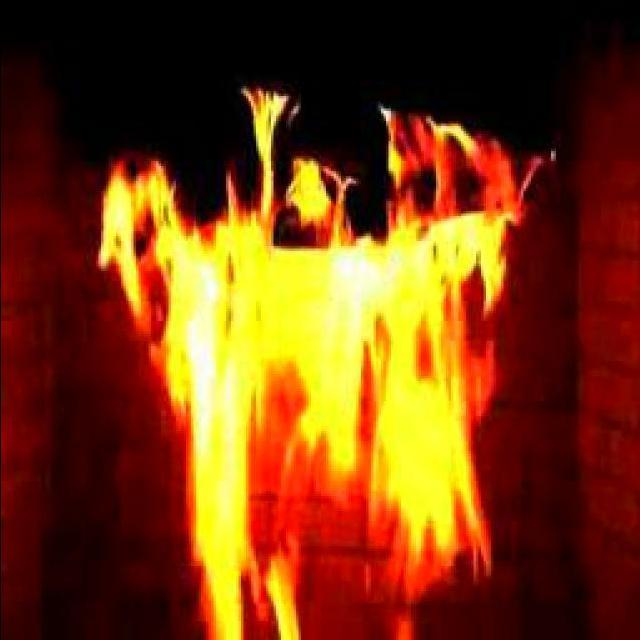Fire: (106, 159, 498, 556)
